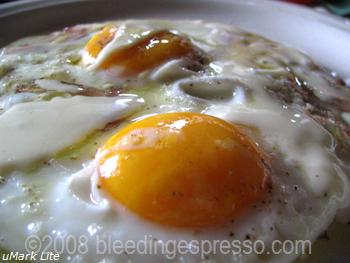fried egg: (89, 94, 284, 236)
